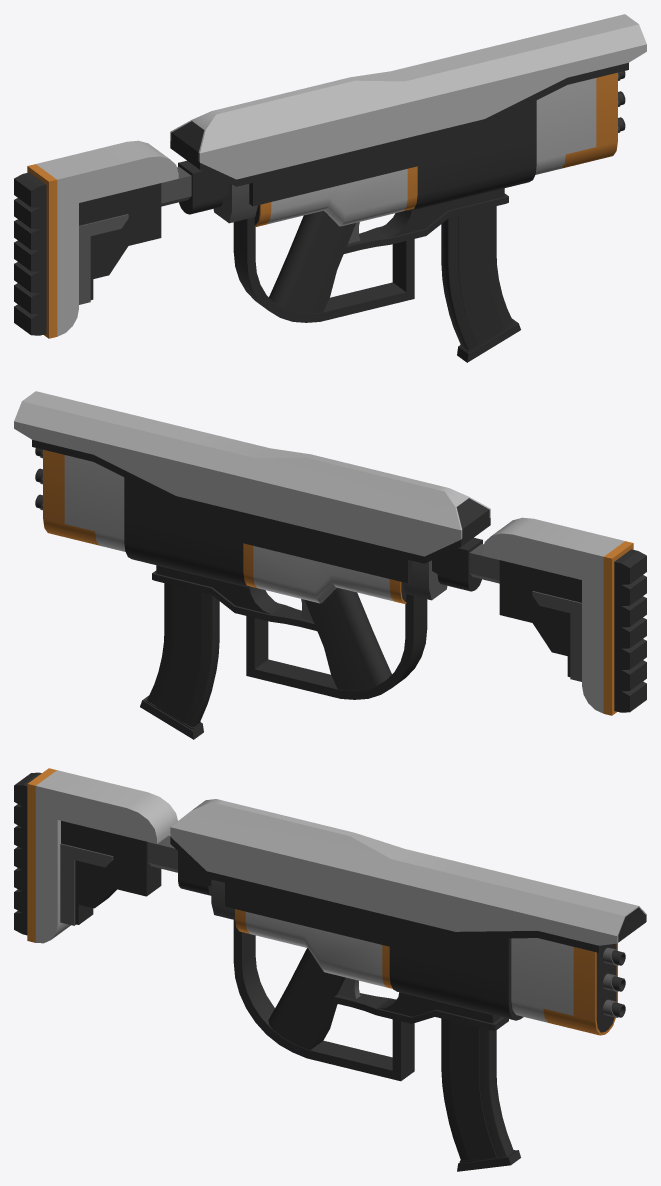
3 views of the same model, one above another, from view 1: azimuth 30°, elevation 25°; view 2: azimuth 150°, elevation 25°; view 3: azimuth 330°, elevation 25° (orthographic).
Parts seen in each view (by area): view 1: AR_3, Magazine_AR_2; view 2: AR_3, Magazine_AR_2; view 3: AR_3, Magazine_AR_2.
Boxes of the visible parts, bbox=[...] form: AR_3: bbox=[14, 14, 646, 338]; Magazine_AR_2: bbox=[441, 206, 520, 362]; AR_3: bbox=[14, 391, 646, 715]; Magazine_AR_2: bbox=[140, 583, 219, 739]; AR_3: bbox=[14, 768, 646, 1081]; Magazine_AR_2: bbox=[441, 1018, 520, 1171].
Size of the model in its own units: 1.55 by 0.7452 by 0.131.
